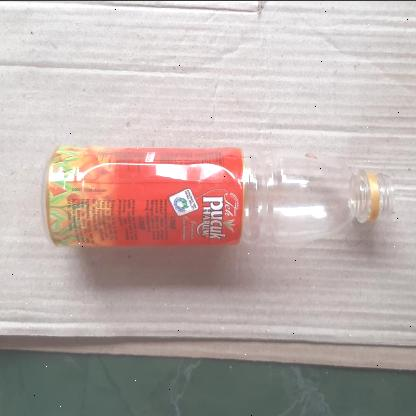Plastic Bottle: (39, 143, 395, 245)
